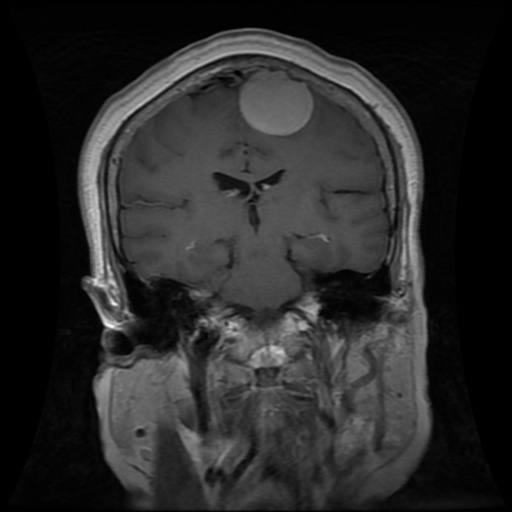meningioma: (239, 69, 312, 134)
